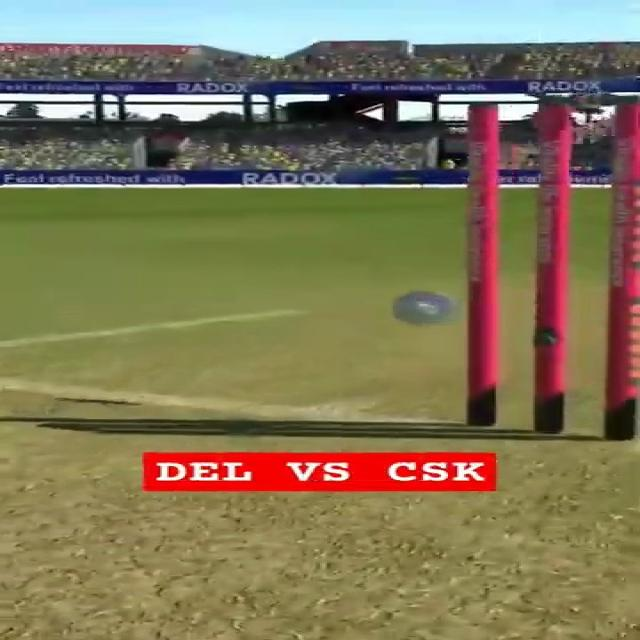ball: (388, 289, 457, 327)
